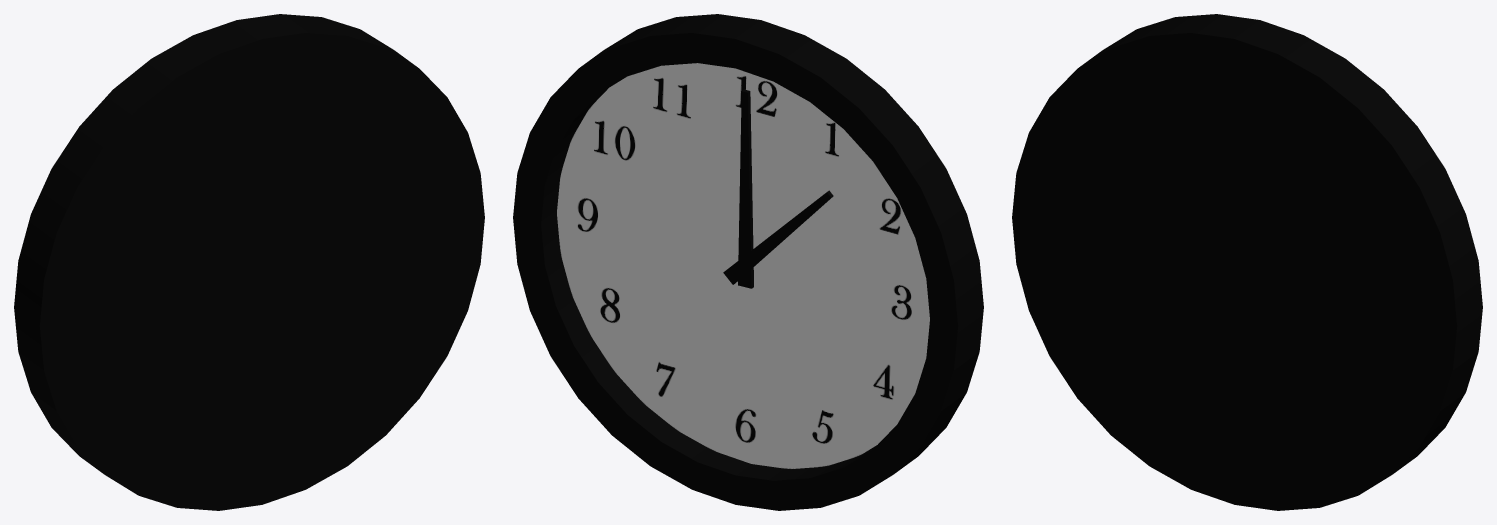
The model's file is clock.fbx.
3 views of the same model, side by side, from view 1: azimuth 30°, elevation 25°; view 2: azimuth 150°, elevation 25°; view 3: azimuth 330°, elevation 25° (orthographic).
Visible parts, largest first — view 1: Clock; view 2: Clock, Minute Hand, Hour Hand; view 3: Clock.
Boxes of the visible parts, <box> form: Clock: <box>14,14,484,510</box>; Clock: <box>513,14,983,510</box>; Minute Hand: <box>738,89,753,288</box>; Hour Hand: <box>723,190,833,284</box>; Clock: <box>1012,14,1482,510</box>.
Bounding box in the file's own units: 105 × 105 × 10.54.
Materials: 2 (1 with a texture image).
